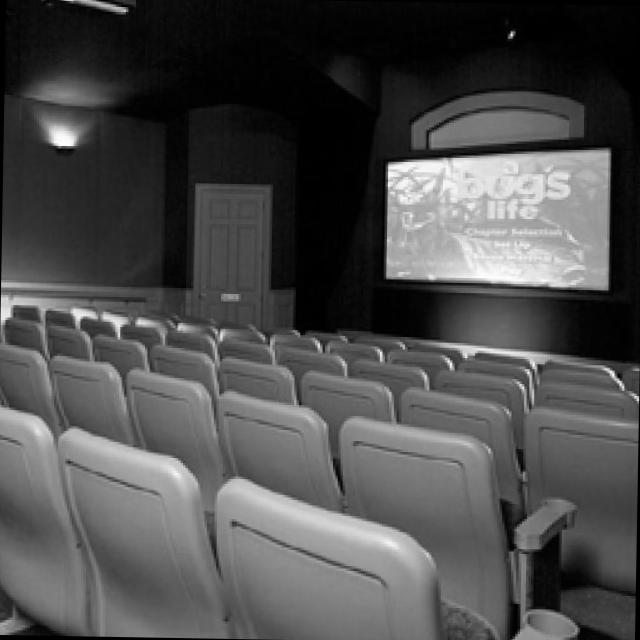ceiling beam: (4, 0, 640, 117)
door opening: (190, 180, 267, 329)
floor -X: (550, 569, 632, 640)
lamp crop: (46, 128, 76, 153)
lamp occluded: (66, 0, 128, 16)
screen occluded: (373, 138, 611, 290)
seats crop: (0, 300, 637, 640)
wall clock: (290, 43, 640, 368), (0, 92, 296, 327)
